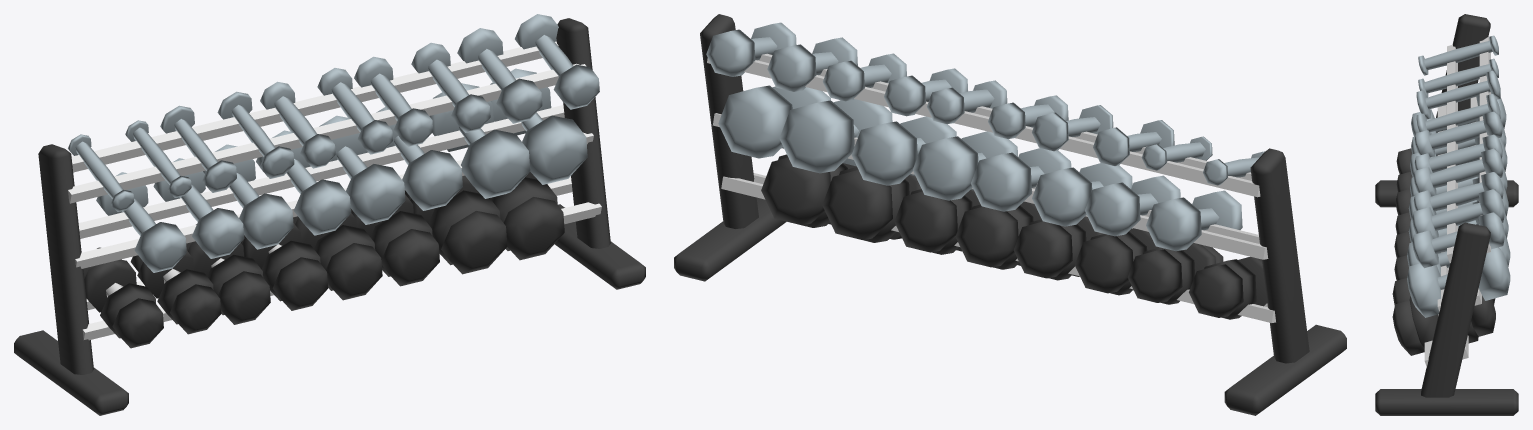
Rendered from training_005.fbx.
3 views of the same model, side by side, from view 1: azimuth 30°, elevation 25°; view 2: azimuth 150°, elevation 25°; view 3: azimuth 270°, elevation 25° (orthographic). The views are drawn at different scales.
Visible parts, largest first — view 1: training_005; view 2: training_005; view 3: training_005.
Boxes of the visible parts, x1,y1,x2,y2 form: training_005: (14, 14, 645, 415); training_005: (674, 14, 1346, 415); training_005: (1375, 14, 1518, 415).
Bounding box in the file's own units: 168 × 45.8 × 66.95.
